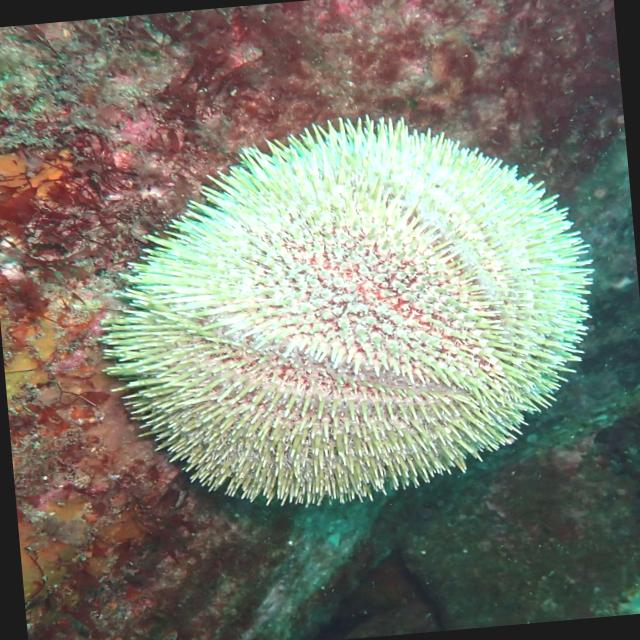Deniz Kestanesi: (79, 95, 614, 523)
